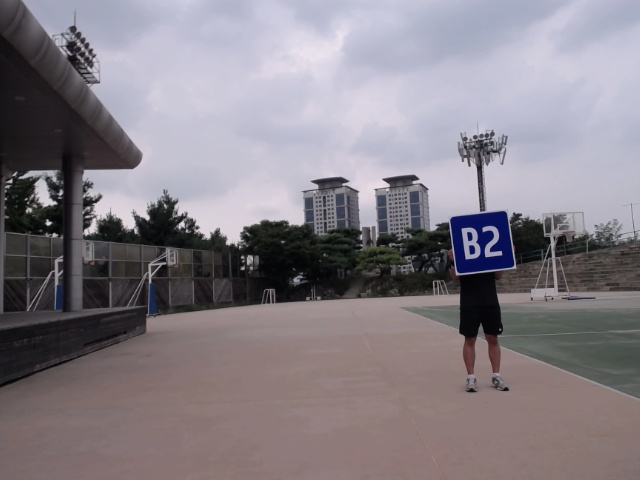delivery_b2: (448, 210, 516, 276)
